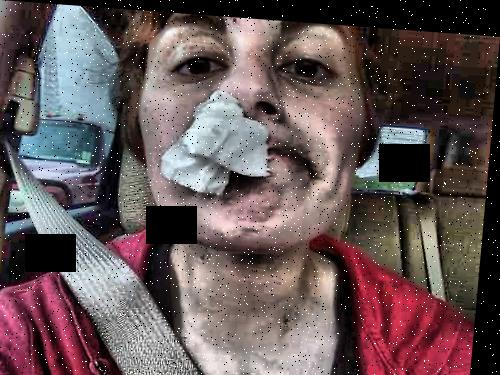seatbelt: (0, 120, 212, 375)
